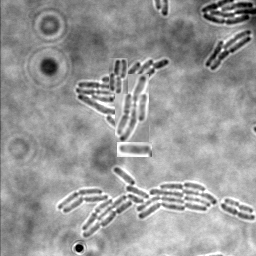Dividing: (219, 204, 255, 222), (117, 142, 152, 157), (223, 199, 253, 215)
Microcolony: (57, 167, 216, 238), (75, 59, 169, 136), (115, 74, 149, 142), (204, 30, 251, 72), (200, 1, 255, 26), (109, 58, 128, 94)
